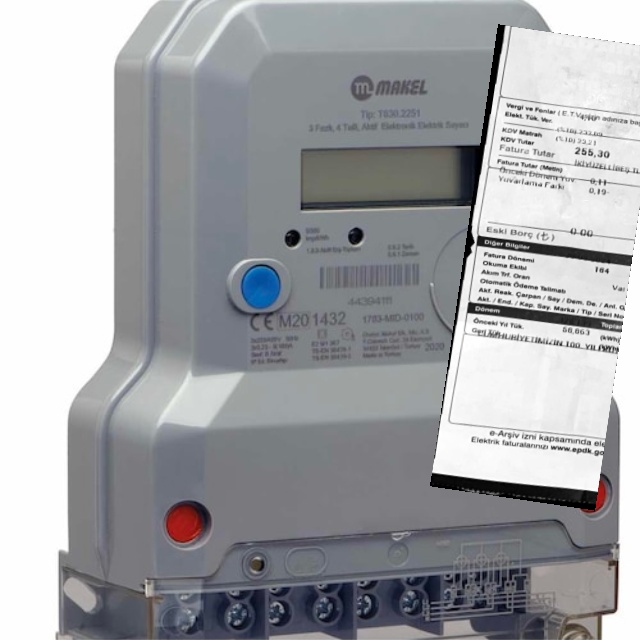electricity-bill: (429, 23, 639, 510)
